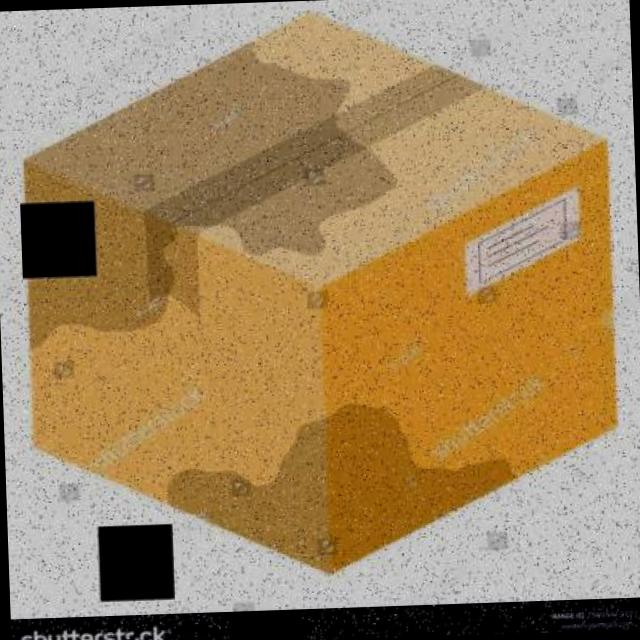box: (10, 0, 629, 584)
